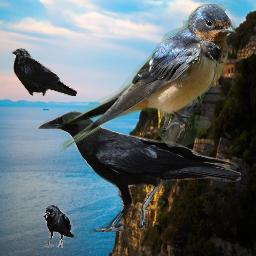Crow: (37, 109, 241, 232), (11, 48, 77, 96), (43, 205, 74, 248)
Swallow: (59, 4, 237, 154)
